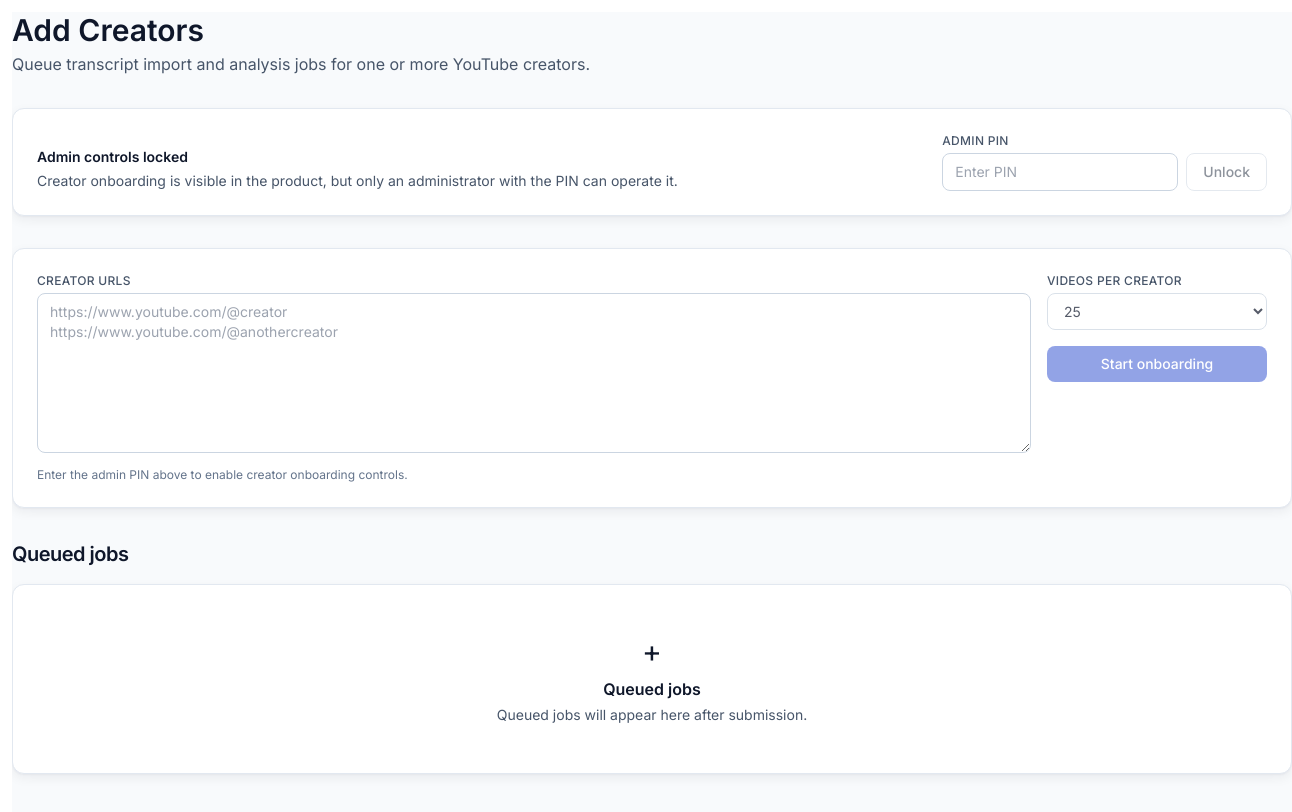
Scenario: AddCreatorsPage form input setters › every input + select responds to user typing
The image size is (1292, 812).
Type "2468" into the password field labelled "Admin PIN" at (1060, 172), box [942,153,1178,191]
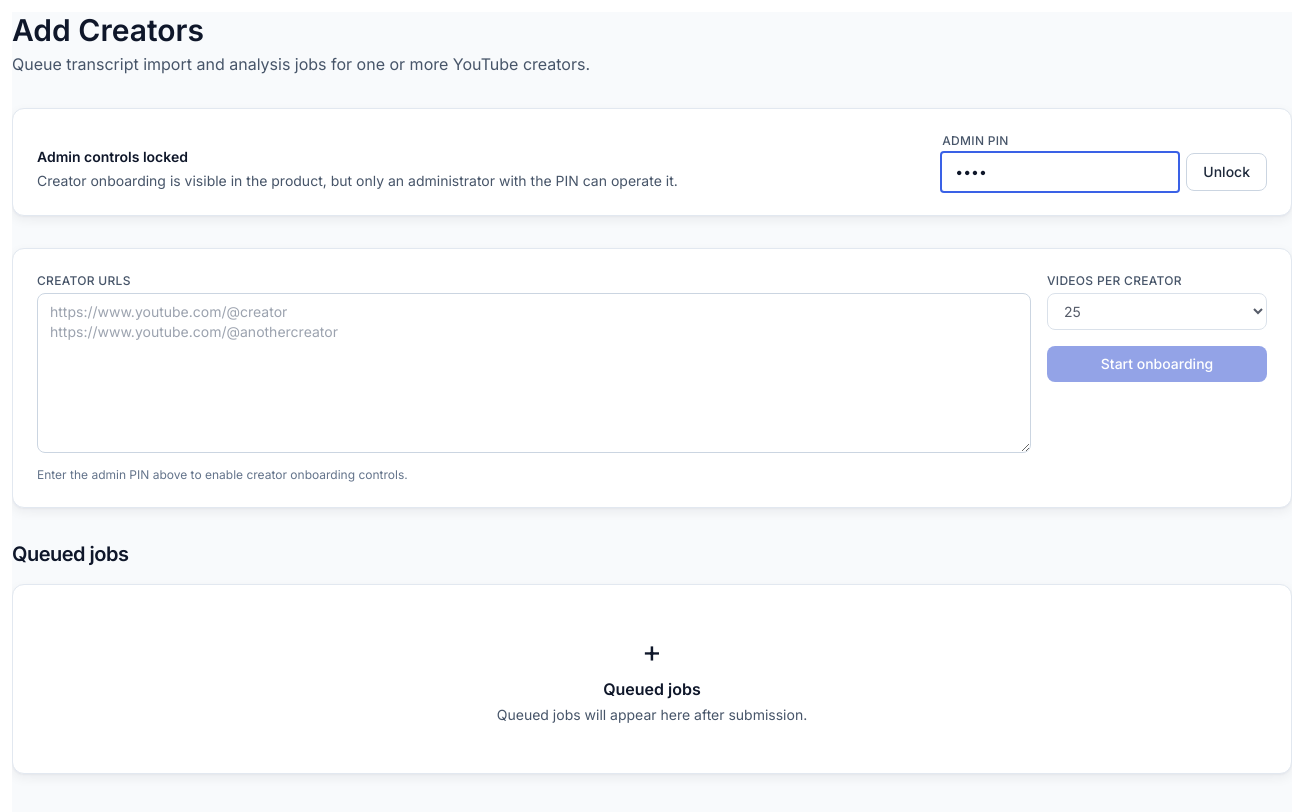
Click the button "Unlock" at (1227, 172), box [1186,153,1267,191]
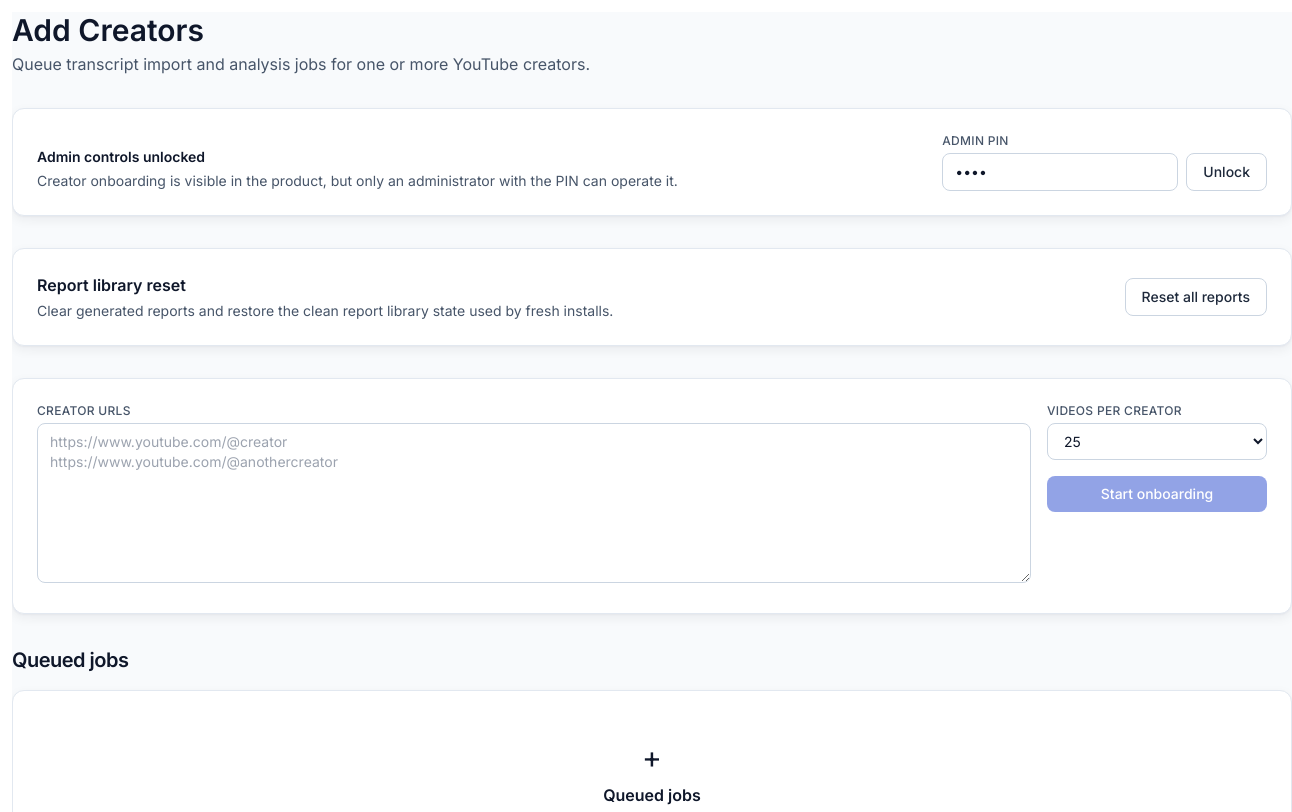
Type "https://www.youtube.com/@example" into the text box labelled "Creator URLs" at (534, 503), box [37,423,1031,583]
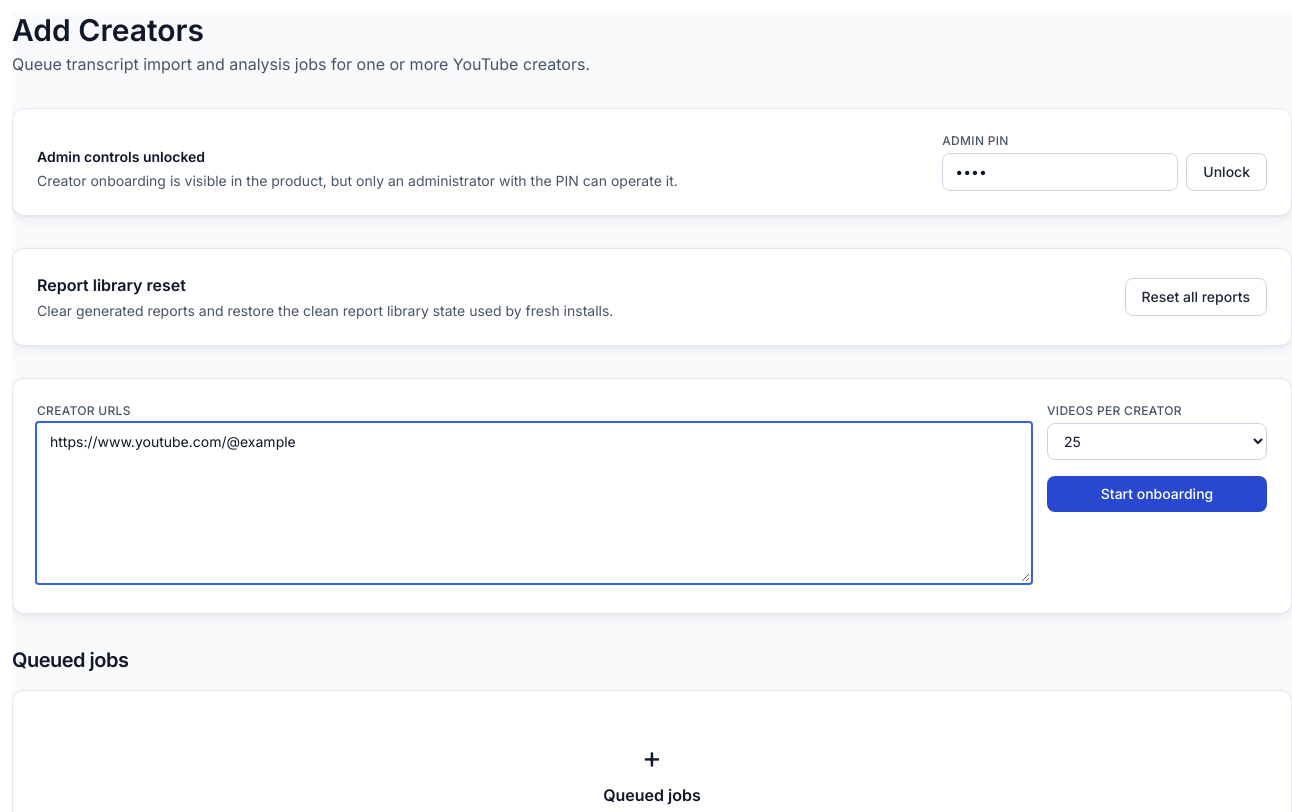
Select "25" in the dropdown labelled "Videos per creator" at (1157, 442), box [1047,423,1267,460]
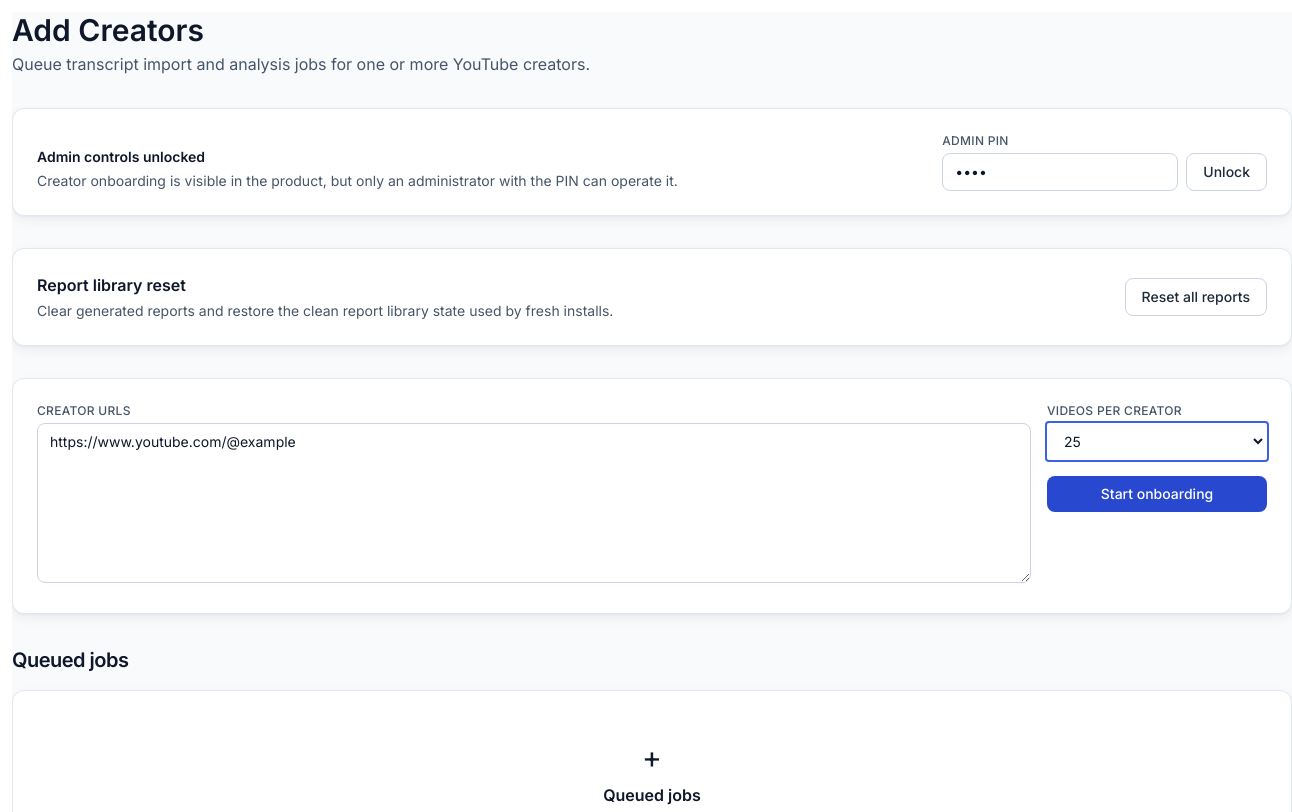
Click the button "Start onboarding" at (1157, 494), box [1047,476,1267,512]
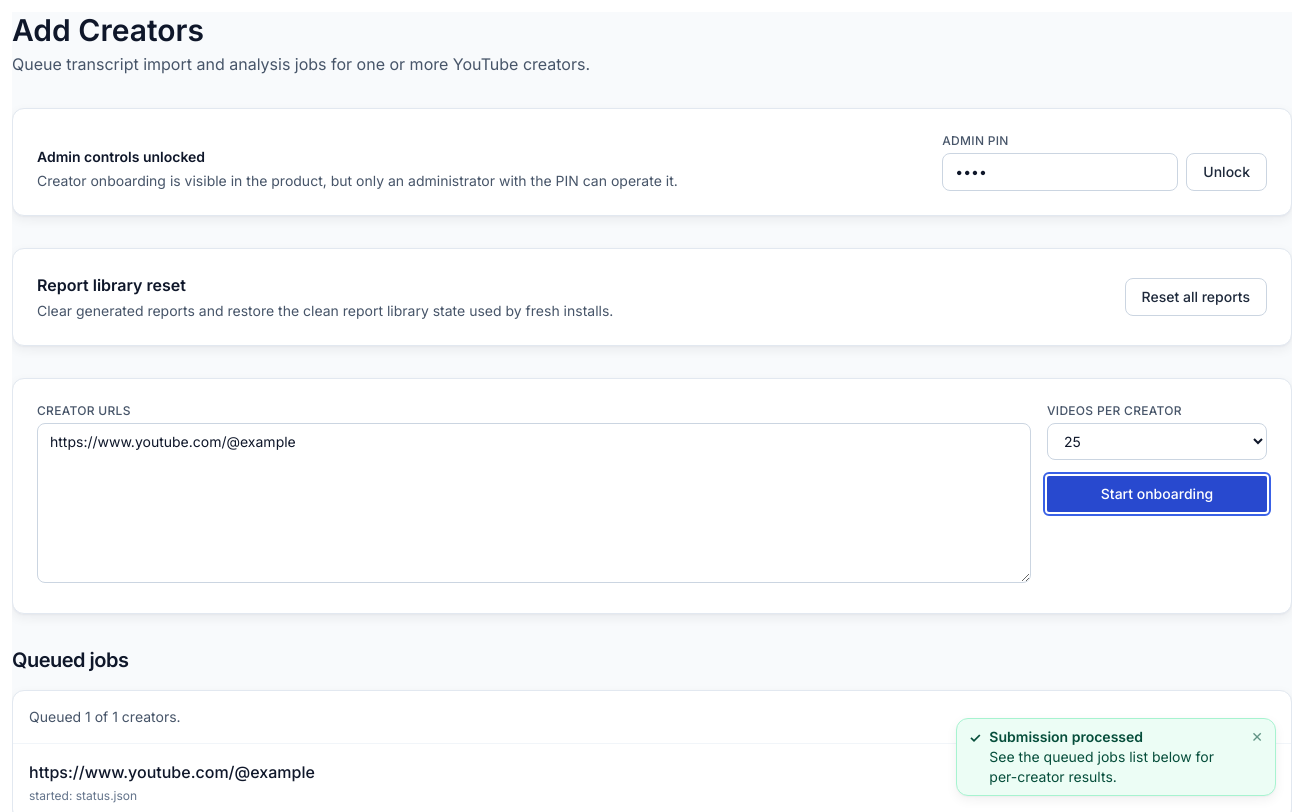
Now the text "Queued 1 of 1 creators." is shown, box [29,708,181,725]
